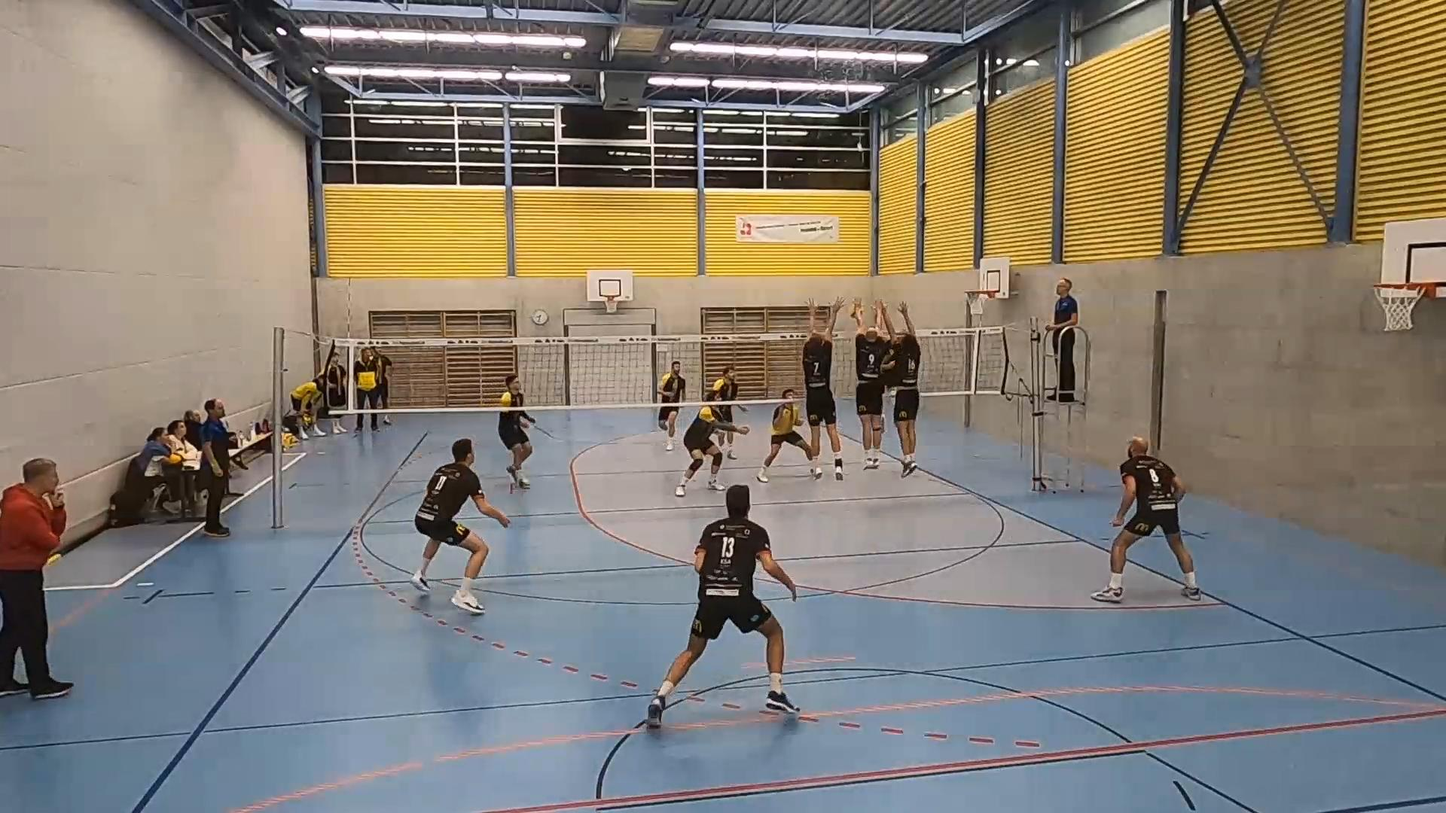Block: (848, 303, 893, 473), (888, 300, 927, 475), (799, 303, 839, 463)
Player: (647, 485, 798, 728), (1091, 437, 1200, 602), (410, 438, 509, 614), (675, 405, 749, 497), (757, 388, 816, 483), (499, 374, 532, 488), (657, 361, 685, 451), (706, 367, 737, 401)
